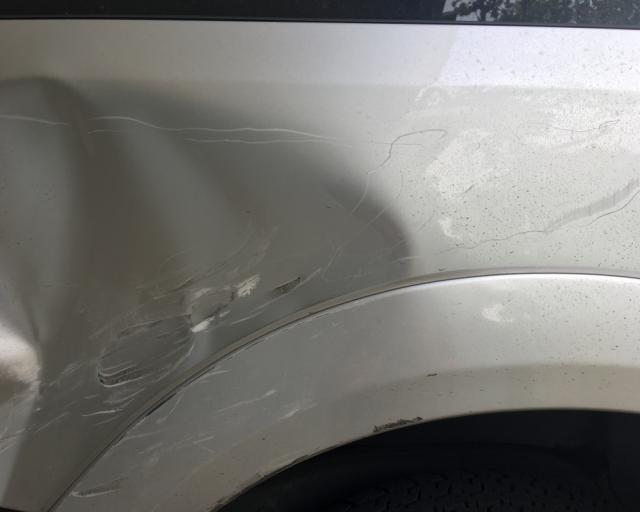dent: (0, 81, 410, 510)
scratch: (62, 306, 425, 512), (430, 167, 640, 255)
